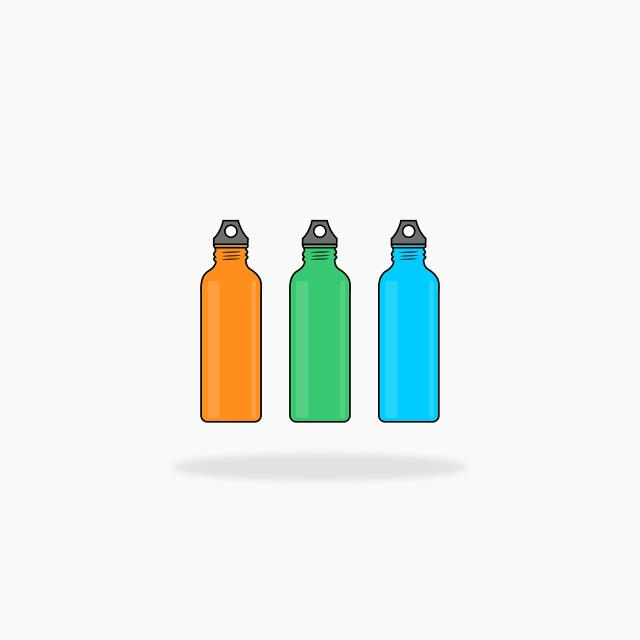plastic_bottle: (378, 219, 440, 423)
